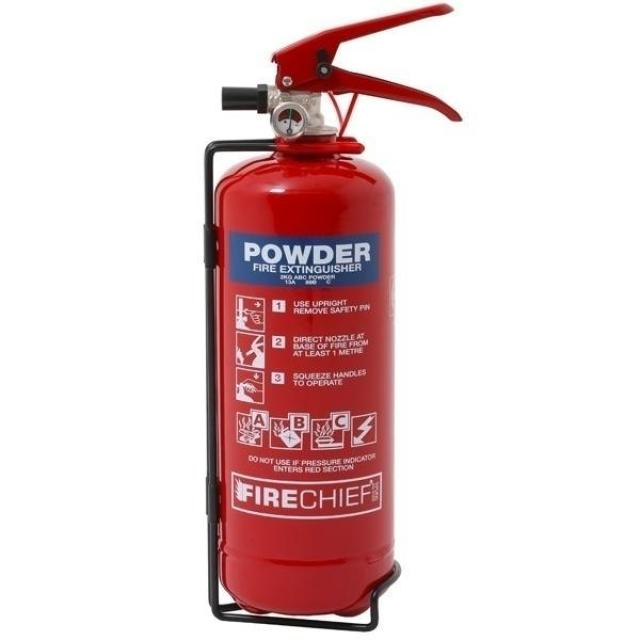fire_extinguisher: (192, 0, 466, 619)
